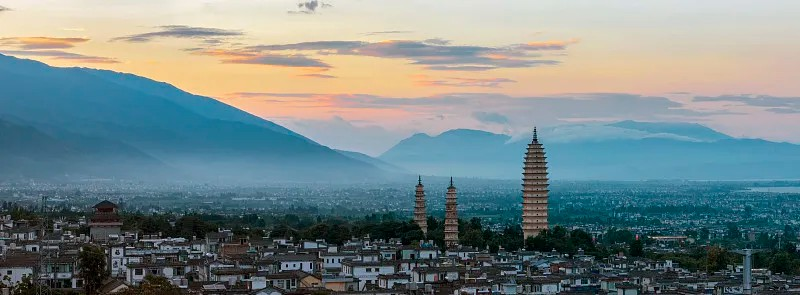ThreePagoda: (521, 126, 549, 237)
